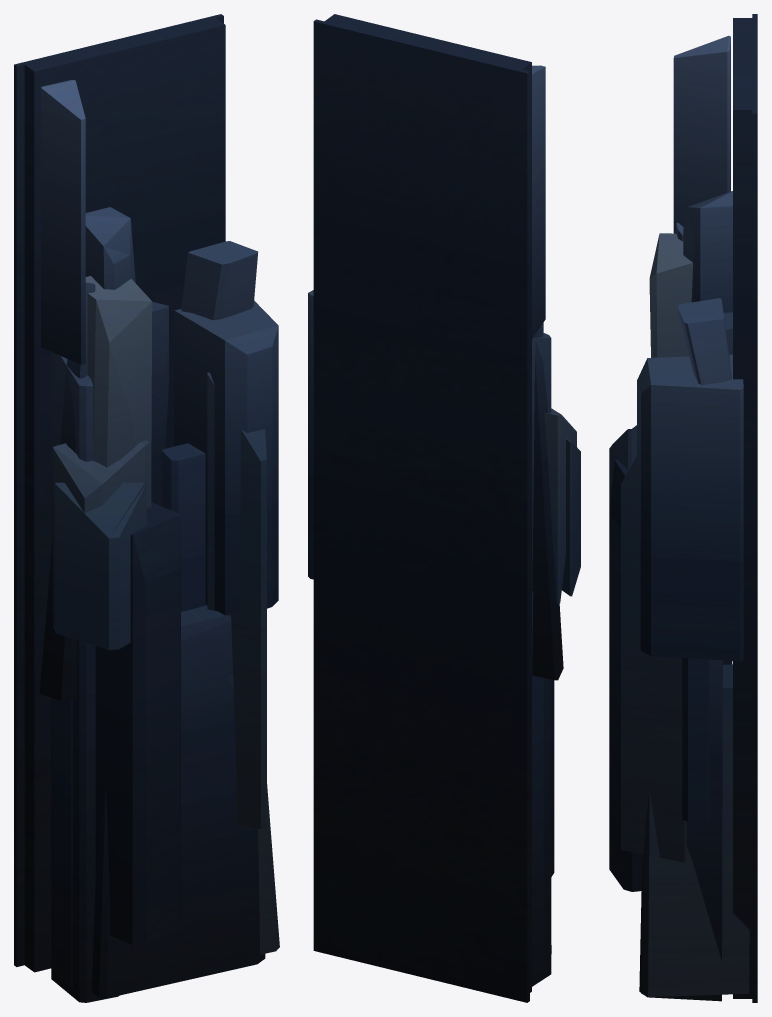
Rendered from Wall_straight_02.glb.
3 renders of one model, left to right at view 1: azimuth 30°, elevation 25°; view 2: azimuth 150°, elevation 25°; view 3: azimuth 270°, elevation 25°, orthographic. The views are drawn at different scales.
Parts seen in each view (by area): view 1: Wall_straight_02; view 2: Wall_straight_02; view 3: Wall_straight_02.
Part boxes in pixels (<box>): Wall_straight_02: <box>14,14,279,1002</box>; Wall_straight_02: <box>308,14,580,1002</box>; Wall_straight_02: <box>609,14,757,1002</box>.
Size of what is drawn, in the model's own units: 14.01 by 54.58 by 8.15.
Materials: 1 (1 with a texture image).
